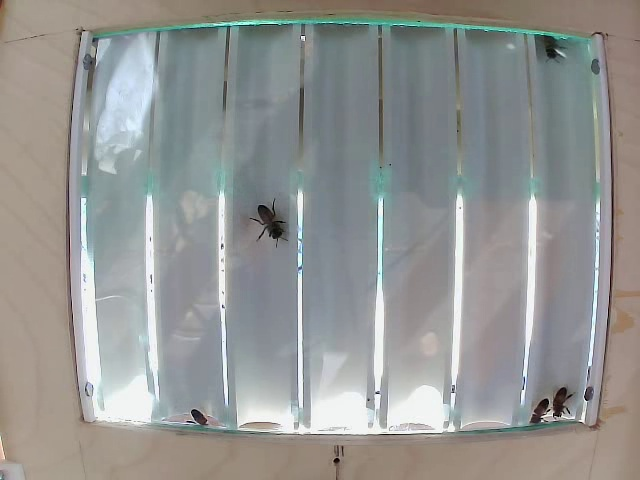bee: (532, 20, 567, 77), (252, 195, 284, 235), (550, 385, 576, 423), (524, 395, 553, 423)
